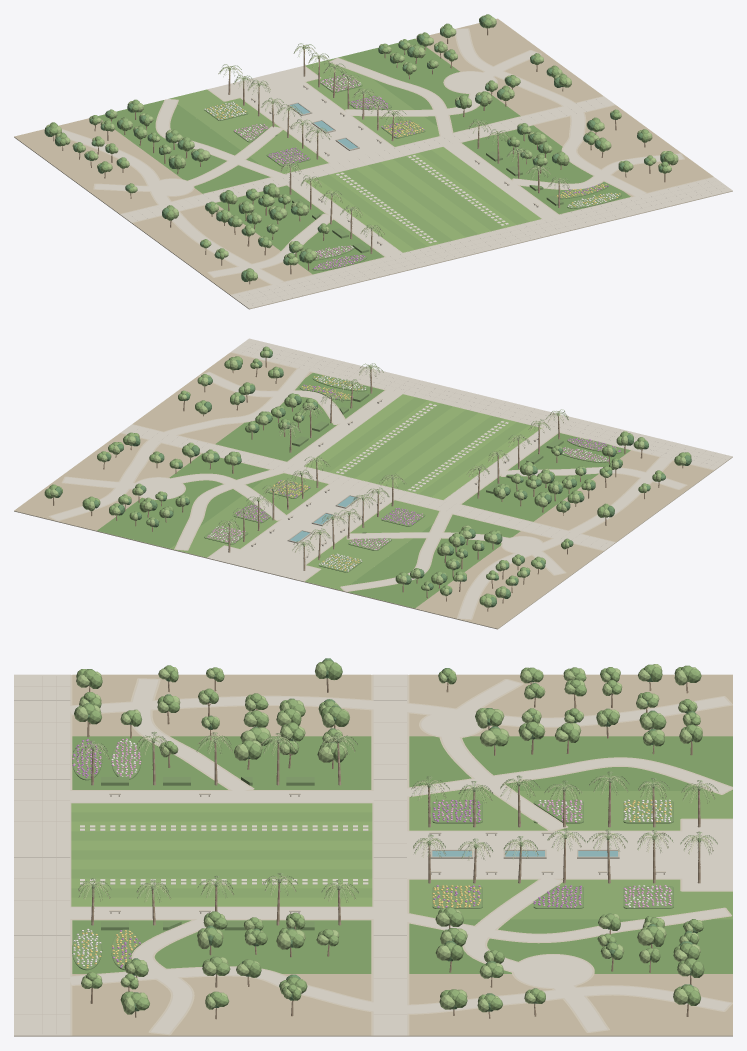
File: auc_library_garden_v1.glb
The picture shows the model from 3 angles, top to bottom: view 1: azimuth 30°, elevation 25°; view 2: azimuth 150°, elevation 25°; view 3: azimuth 270°, elevation 25°; orthographic projection. The views are drawn at different scales.
Parts seen in each view (by area): view 1: paving, soil, grass_dark, grass, leaf_mid, grass_light, sand, curb, leaf_light, leaf_dark, hedge, trunk (+9 smaller); view 2: paving, soil, grass_dark, grass, leaf_mid, grass_light, sand, leaf_light, curb, leaf_dark, trunk, hedge (+9 smaller); view 3: paving, soil, grass_dark, grass, leaf_mid, grass_light, leaf_light, curb, sand, hedge, trunk, palm_dark (+12 smaller).
Boxes of the visible parts, x1=… form: paving: x1=62, y1=28, x2=732, y2=308; soil: x1=14, y1=18, x2=713, y2=294; grass_dark: x1=98, y1=38, x2=630, y2=274; grass: x1=170, y1=56, x2=529, y2=249; leaf_mid: x1=49, y1=14, x2=674, y2=281; grass_light: x1=305, y1=147, x2=541, y2=252; sand: x1=14, y1=28, x2=732, y2=309; curb: x1=62, y1=28, x2=713, y2=294; leaf_light: x1=45, y1=15, x2=678, y2=280; leaf_dark: x1=44, y1=16, x2=665, y2=281; hedge: x1=204, y1=74, x2=621, y2=270; trunk: x1=53, y1=28, x2=669, y2=284; paving: x1=50, y1=338, x2=732, y2=618; soil: x1=14, y1=352, x2=713, y2=628; grass_dark: x1=97, y1=373, x2=630, y2=608; grass: x1=170, y1=397, x2=529, y2=590; leaf_mid: x1=44, y1=346, x2=691, y2=605; grass_light: x1=305, y1=394, x2=541, y2=499; sand: x1=14, y1=352, x2=732, y2=629; leaf_light: x1=50, y1=350, x2=686, y2=607; curb: x1=49, y1=352, x2=713, y2=619; leaf_dark: x1=55, y1=350, x2=691, y2=607; trunk: x1=53, y1=358, x2=683, y2=611; hedge: x1=204, y1=376, x2=621, y2=572; paving: x1=14, y1=674, x2=732, y2=1035; soil: x1=72, y1=674, x2=732, y2=1035; grass_dark: x1=72, y1=736, x2=732, y2=973; grass: x1=71, y1=791, x2=732, y2=919; leaf_mid: x1=73, y1=660, x2=704, y2=1010; grass_light: x1=71, y1=803, x2=372, y2=906; leaf_light: x1=75, y1=662, x2=702, y2=1014; curb: x1=70, y1=674, x2=732, y2=1035; sand: x1=14, y1=675, x2=732, y2=1036; hedge: x1=72, y1=739, x2=673, y2=970; trunk: x1=87, y1=678, x2=700, y2=1019; palm_dark: x1=73, y1=731, x2=718, y2=899.
Bounding box in the file's own units: 152 × 10.41 × 128.
